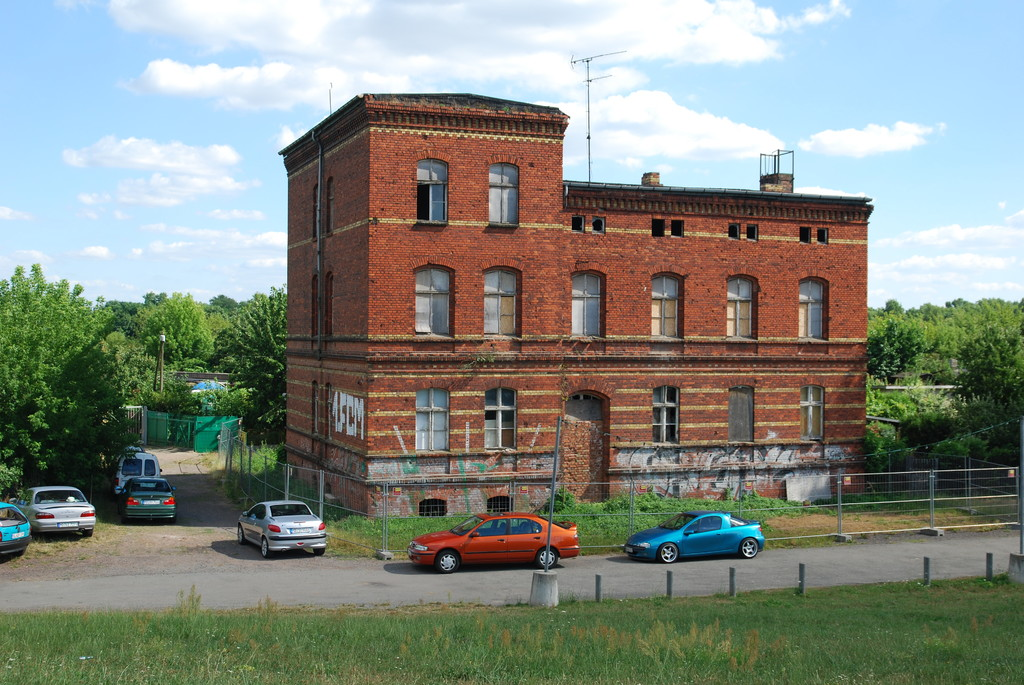Car: (401, 514, 579, 580), (621, 512, 766, 560), (234, 499, 326, 558), (15, 484, 97, 537), (122, 477, 177, 523), (0, 499, 31, 562)
